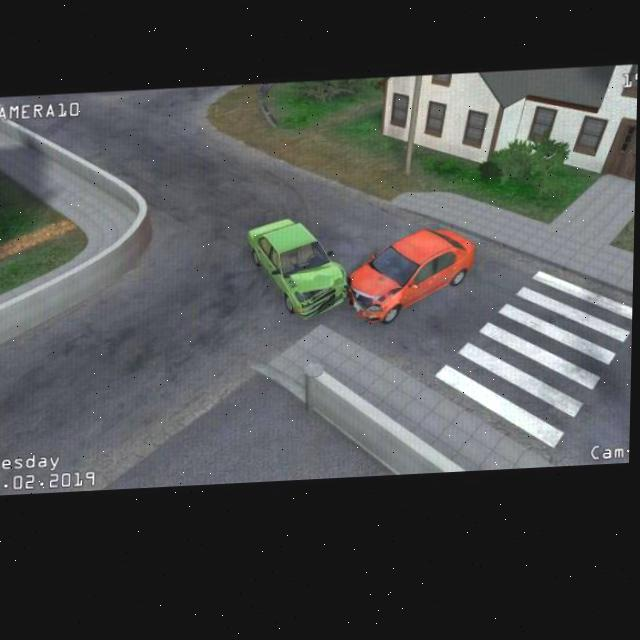multiple_accident: (217, 140, 530, 337)
